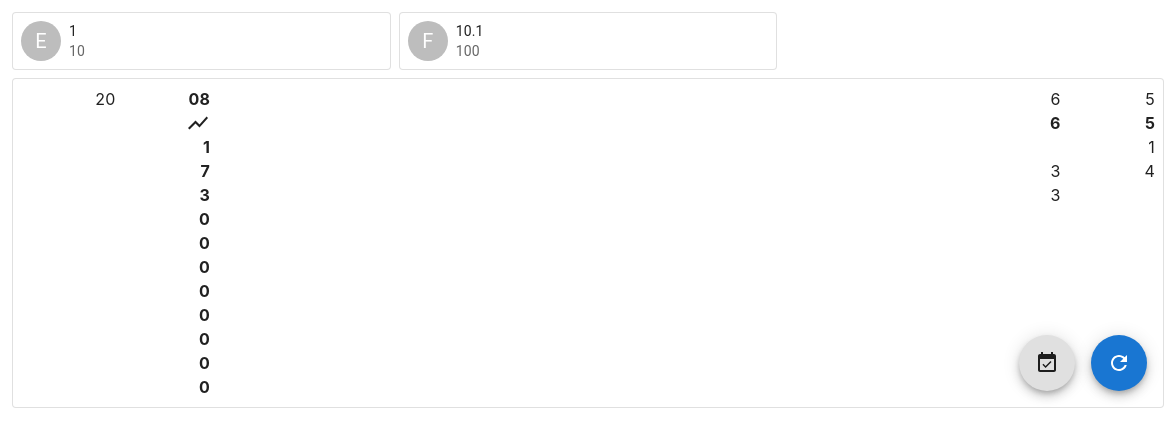
renders short levels filter by today and lang
Click the button named "today" at (1047, 363), box [1019,335,1075,391]
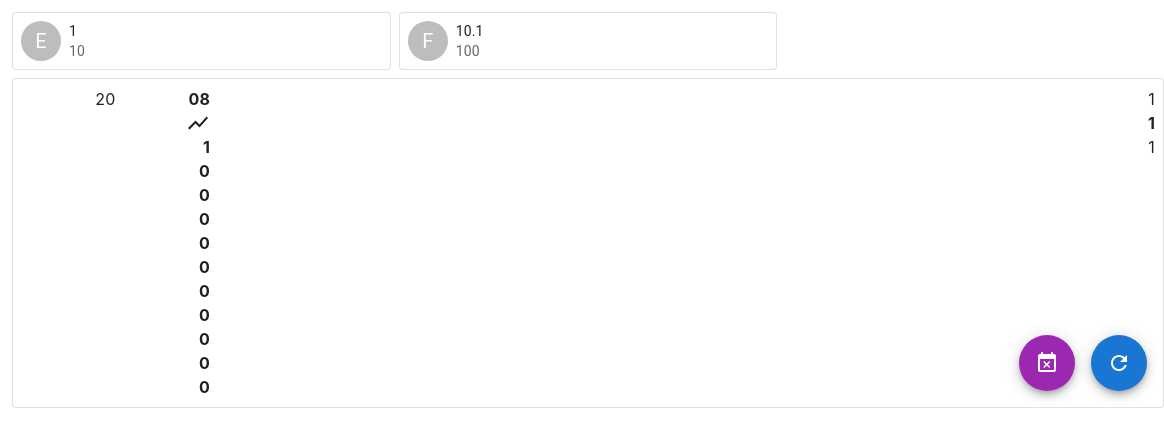
Click the button "E 1 10" at (41, 41), box [13,13,390,69]
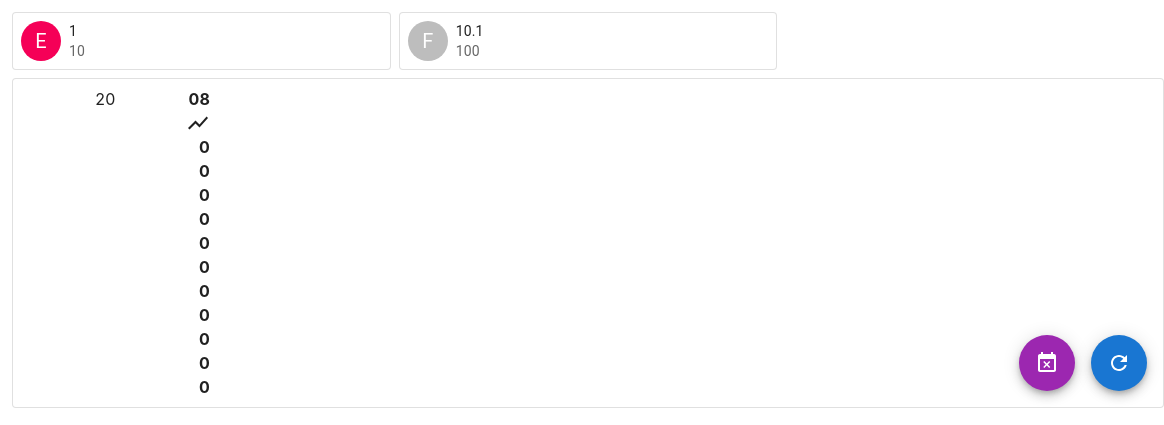
Check: the element with test id "D-1" reads "0", box [199,161,210,181]
Check: the element with test id "D-2" reads "0", box [199,185,210,205]
Check: the element with test id "D-0" reads "0", box [199,137,210,157]
Click the button "F 10.1 100" at (428, 41), box [400,13,776,69]
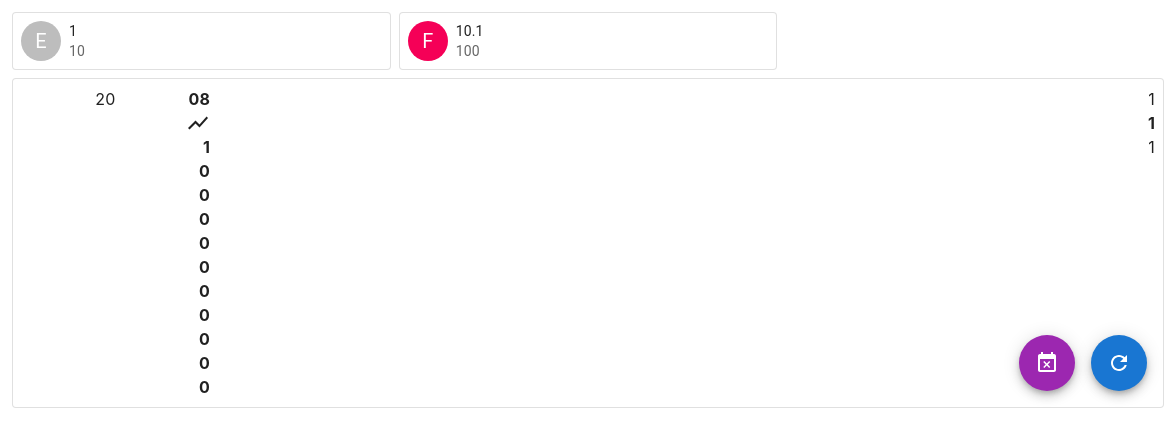
Check: the text with test id "M-2008-9" reads "1", box [1148,89,1155,109]
Check: the text with test id "S-9" reads "1", box [1148,113,1155,133]
Check: the element with test id "D-0" reads "1", box [203,137,210,157]
